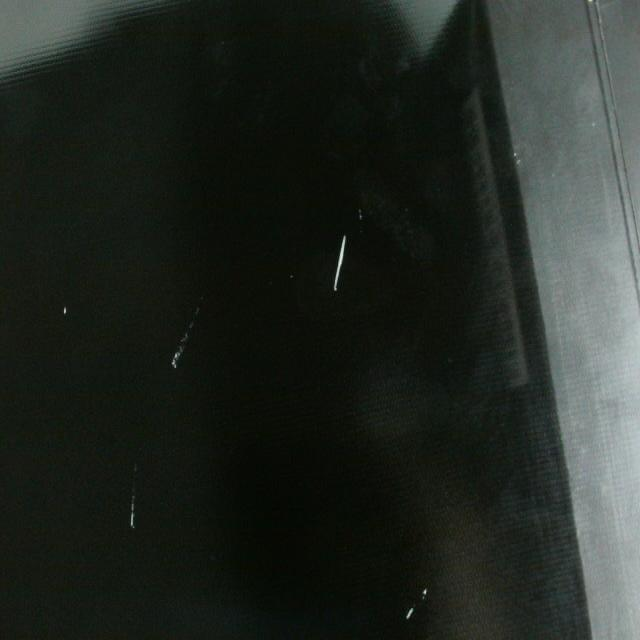scratch: (156, 304, 210, 374), (398, 578, 433, 628), (124, 455, 140, 540), (331, 230, 349, 295)
very small scratch: (58, 298, 72, 325)
